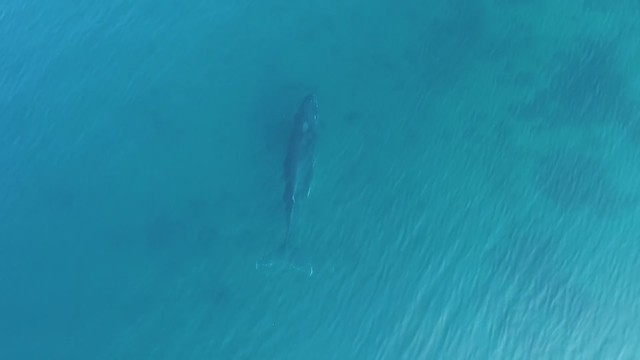whale: (250, 83, 339, 287)
